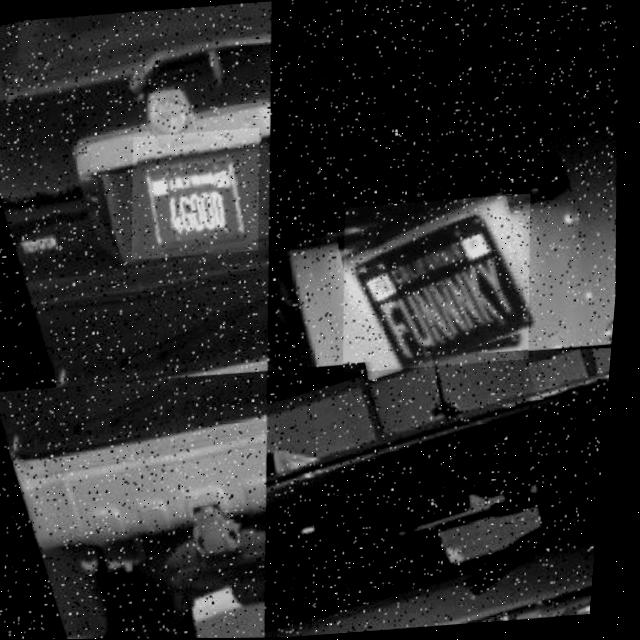LicensePlate: (337, 194, 545, 374), (127, 128, 270, 260), (90, 376, 212, 443)
